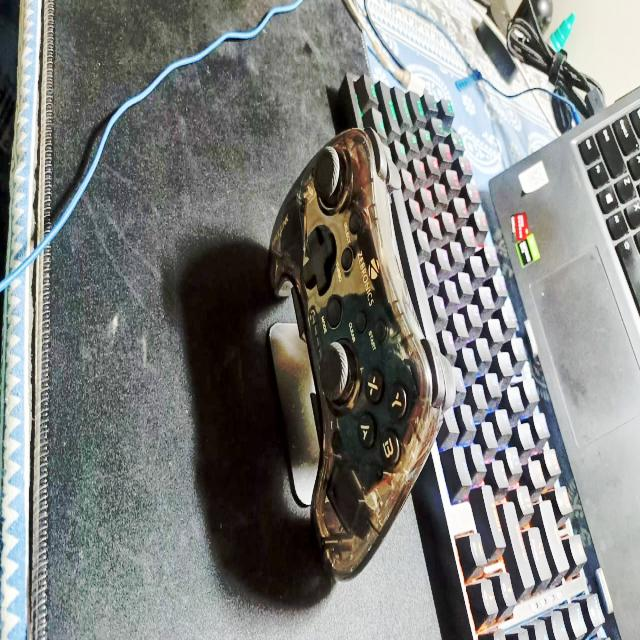gamepad: (270, 0, 638, 570)
